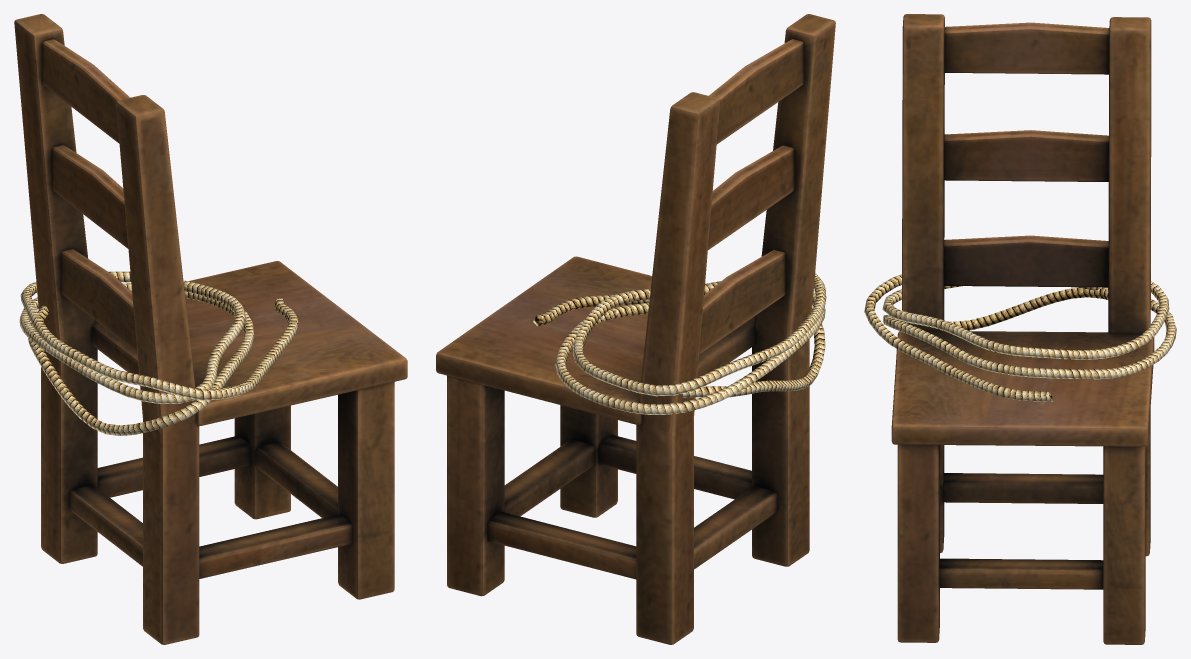
Rendered from SM_Chair.fbx.
3 renders of one model, left to right at view 1: azimuth 30°, elevation 25°; view 2: azimuth 150°, elevation 25°; view 3: azimuth 270°, elevation 25°, orthographic. The views are drawn at different scales.
Visible parts, largest first — view 1: SM_Chair; view 2: SM_Chair; view 3: SM_Chair.
Part boxes in pixels (x1=…): SM_Chair: x1=14, y1=14, x2=407, y2=644; SM_Chair: x1=436, y1=14, x2=835, y2=644; SM_Chair: x1=864, y1=14, x2=1176, y2=644.
Bounding box in the file's own units: 82.69 × 145 × 80.06.
Materials: 2 (2 with a texture image).
